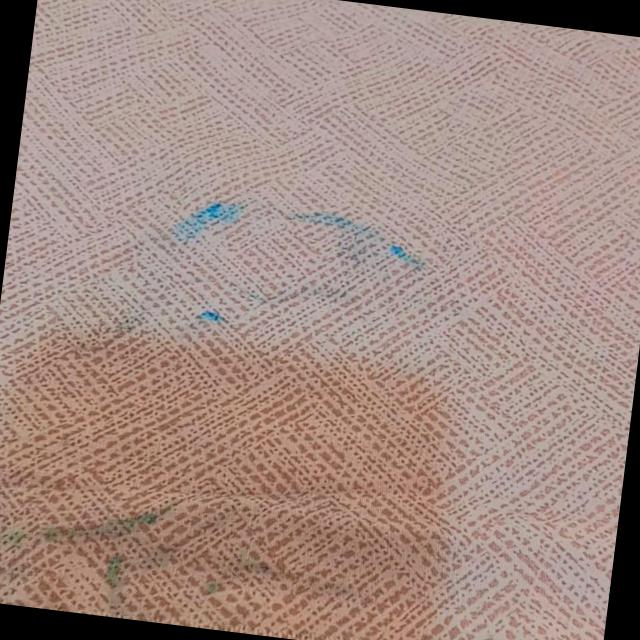stain: (152, 182, 440, 354), (0, 489, 280, 619)
